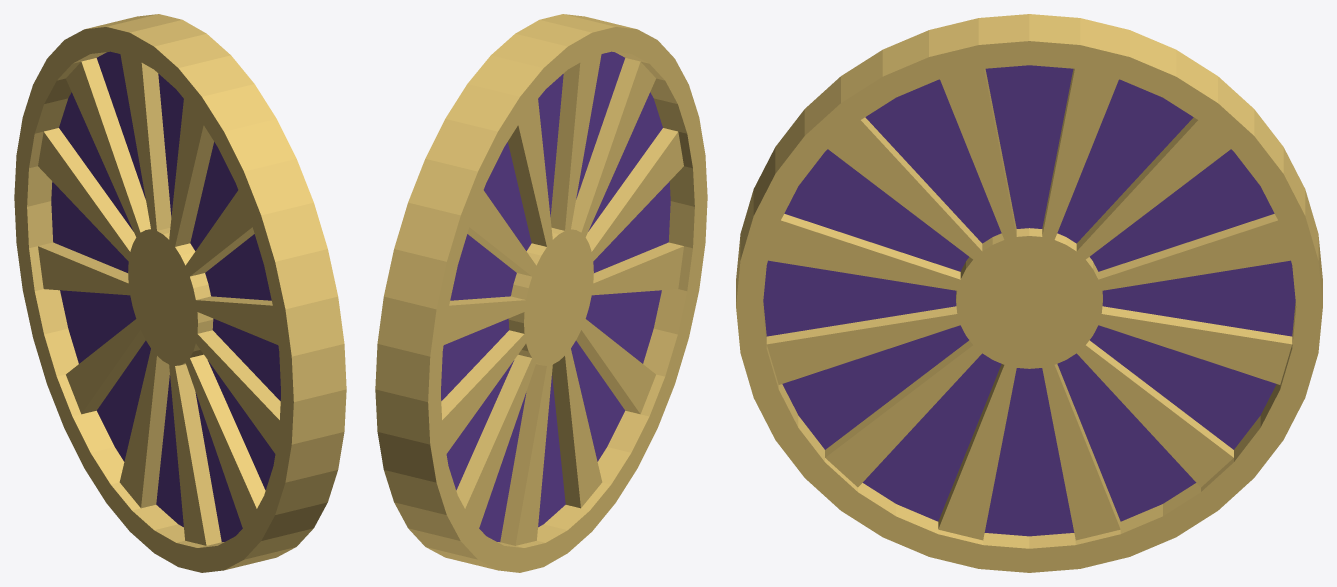
The picture shows the model from 3 angles, left to right: view 1: azimuth 30°, elevation 25°; view 2: azimuth 150°, elevation 25°; view 3: azimuth 270°, elevation 25°; orthographic projection. The views are drawn at different scales.
Parts seen in each view (by area): view 1: 50; view 2: 50; view 3: 50.
Part boxes in pixels (x1,y1,x2,y2): 50: (14,14,346,572); 50: (375,14,707,572); 50: (736,14,1322,572).
Size of the model in its own units: 21.8 by 200 by 200.
